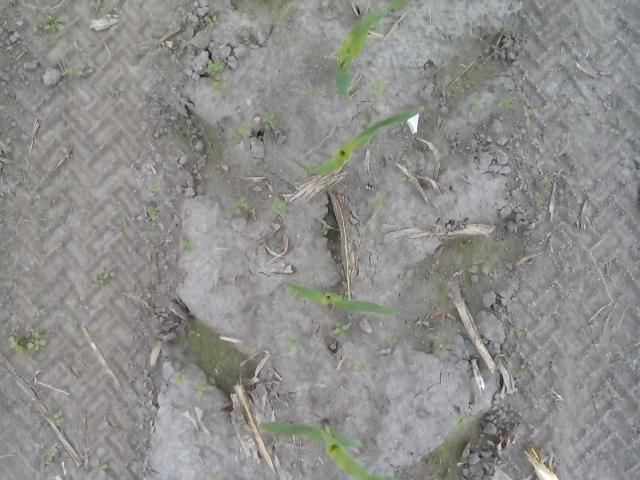Maize: (296, 103, 426, 182), (256, 418, 398, 480), (333, 0, 411, 97), (288, 281, 392, 320)
Weeds: (7, 324, 47, 354), (207, 56, 232, 96), (31, 8, 66, 33), (230, 194, 256, 219), (522, 98, 542, 127), (367, 80, 392, 102), (61, 63, 94, 78), (232, 120, 254, 141), (144, 205, 160, 232), (286, 332, 304, 353), (436, 338, 454, 359), (452, 415, 472, 433), (263, 112, 283, 129), (496, 95, 516, 112), (270, 196, 286, 215), (195, 383, 213, 399), (94, 270, 112, 285), (374, 193, 390, 208), (334, 320, 348, 337), (95, 460, 108, 478), (46, 446, 59, 464), (400, 170, 416, 184), (204, 14, 220, 28), (186, 324, 202, 338), (52, 410, 64, 426), (469, 96, 481, 112), (176, 371, 190, 384), (489, 272, 502, 286), (358, 360, 371, 374), (182, 238, 196, 251), (208, 470, 225, 480), (14, 166, 28, 178), (520, 359, 529, 376), (543, 174, 553, 189), (552, 147, 565, 157), (471, 255, 484, 265), (534, 190, 544, 202), (150, 180, 160, 192), (191, 432, 202, 442), (514, 326, 524, 337), (114, 87, 125, 96), (246, 343, 256, 352), (435, 327, 445, 336), (120, 215, 129, 224), (342, 96, 352, 104), (434, 302, 444, 310), (388, 335, 397, 343), (379, 140, 385, 144)
